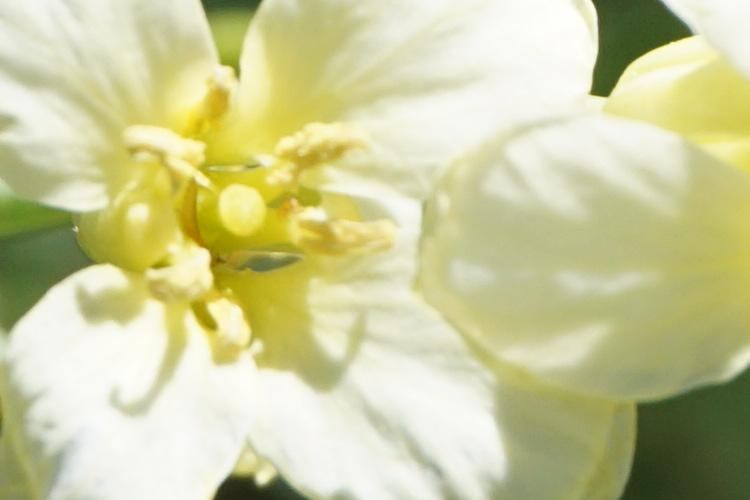white: (12, 12, 625, 484), (430, 86, 749, 405)
